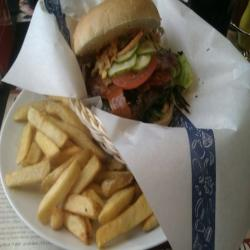burger: (75, 3, 185, 132)
fries: (20, 110, 155, 239)
